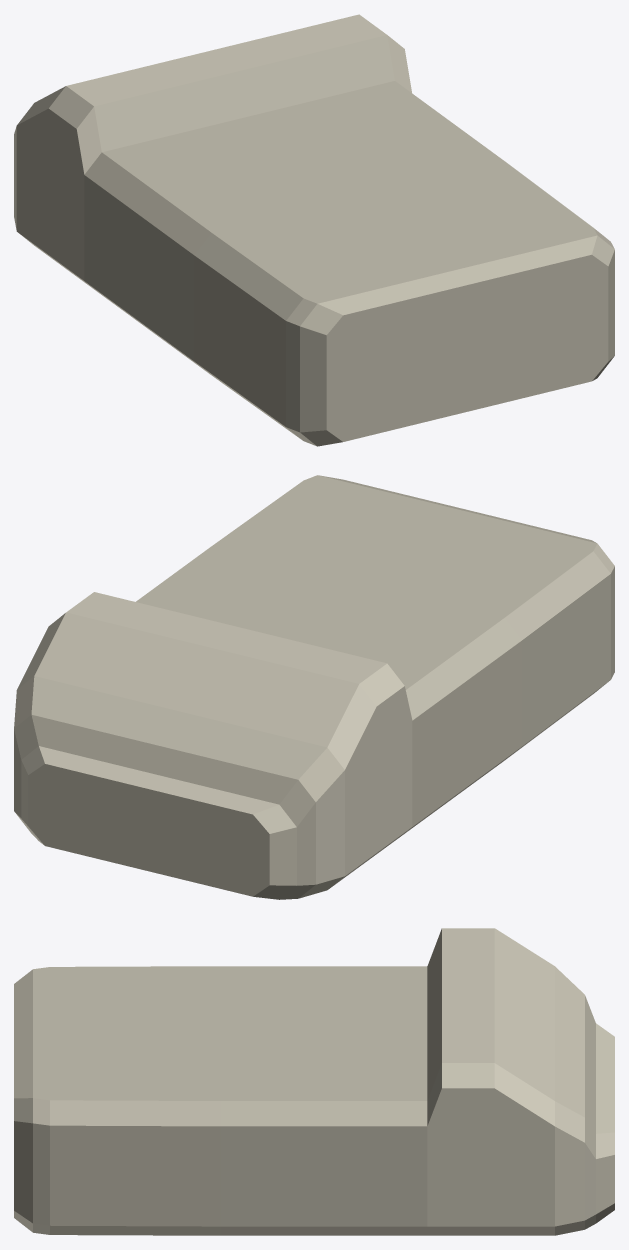
Rendered from durham_heavy_a.glb.
3 views of the same model, one above another, from view 1: azimuth 30°, elevation 25°; view 2: azimuth 150°, elevation 25°; view 3: azimuth 270°, elevation 25° (orthographic). The views are drawn at different scales.
Parts seen in each view (by area): view 1: durham_heavy_a; view 2: durham_heavy_a; view 3: durham_heavy_a.
Boxes of the visible parts, bbox=[...] form: durham_heavy_a: bbox=[14, 14, 614, 446]; durham_heavy_a: bbox=[14, 475, 614, 899]; durham_heavy_a: bbox=[14, 928, 614, 1235].
Bounding box in the file's own units: 4.4 × 2.35 × 7.4.
